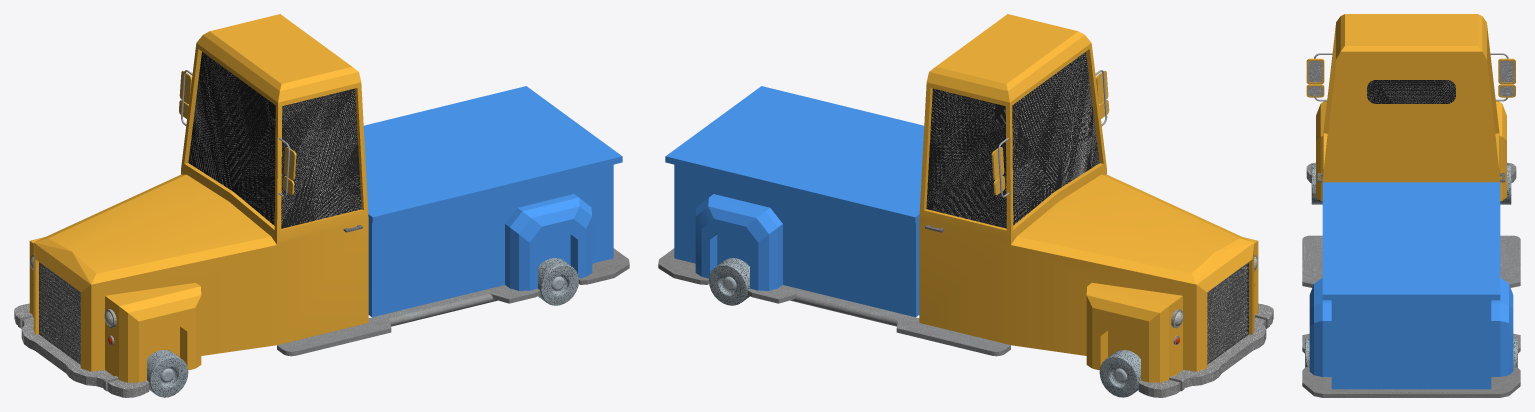
The model's file is Lorry.fbx.
3 views of the same model, side by side, from view 1: azimuth 30°, elevation 25°; view 2: azimuth 150°, elevation 25°; view 3: azimuth 270°, elevation 25° (orthographic). The views are drawn at different scales.
Parts seen in each view (by area): view 1: Cabin1, Bodywork1, Glasses1, Skirt1, Lattice1, Front_bumper1, Wheel4, Wheel1, Rear_bumper1, Mirror2; view 2: Cabin1, Bodywork1, Glasses1, Skirt2, Lattice1, Front_bumper1, Wheel2, Wheel3, Rear_bumper1, Mirror1; view 3: Bodywork1, Cabin1, Rear_bumper1, Glasses1, Skirt1, Skirt2, Mirror2, Mirror1, Wheel2, Wheel4, Front_bumper1.
Part boxes in pixels (x1=…): Cabin1: x1=29, y1=14, x2=368, y2=382; Bodywork1: x1=363, y1=86, x2=622, y2=317; Glasses1: x1=188, y1=52, x2=361, y2=228; Skirt1: x1=277, y1=285, x2=540, y2=356; Lattice1: x1=39, y1=262, x2=80, y2=364; Front_bumper1: x1=14, y1=303, x2=149, y2=397; Wheel4: x1=147, y1=349, x2=188, y2=397; Wheel1: x1=538, y1=258, x2=578, y2=305; Rear_bumper1: x1=578, y1=248, x2=629, y2=284; Mirror2: x1=278, y1=138, x2=296, y2=197; Cabin1: x1=919, y1=14, x2=1258, y2=382; Bodywork1: x1=665, y1=86, x2=924, y2=317; Glasses1: x1=926, y1=52, x2=1099, y2=228; Skirt2: x1=747, y1=285, x2=1010, y2=356; Lattice1: x1=1207, y1=262, x2=1248, y2=364; Front_bumper1: x1=1138, y1=303, x2=1273, y2=397; Wheel2: x1=1099, y1=349, x2=1140, y2=397; Wheel3: x1=709, y1=258, x2=749, y2=305; Rear_bumper1: x1=658, y1=248, x2=709, y2=284; Mirror1: x1=991, y1=138, x2=1009, y2=197; Bodywork1: x1=1309, y1=182, x2=1513, y2=389; Cabin1: x1=1316, y1=14, x2=1506, y2=201; Rear_bumper1: x1=1302, y1=367, x2=1520, y2=397; Glasses1: x1=1367, y1=80, x2=1455, y2=103; Skirt1: x1=1302, y1=235, x2=1322, y2=353; Skirt2: x1=1500, y1=235, x2=1520, y2=353; Mirror2: x1=1306, y1=53, x2=1332, y2=101; Mirror1: x1=1490, y1=53, x2=1515, y2=101; Wheel2: x1=1500, y1=164, x2=1511, y2=204; Wheel4: x1=1311, y1=164, x2=1322, y2=204; Front_bumper1: x1=1306, y1=162, x2=1516, y2=183.
Size of the model in its own units: 639 by 308 by 246.
